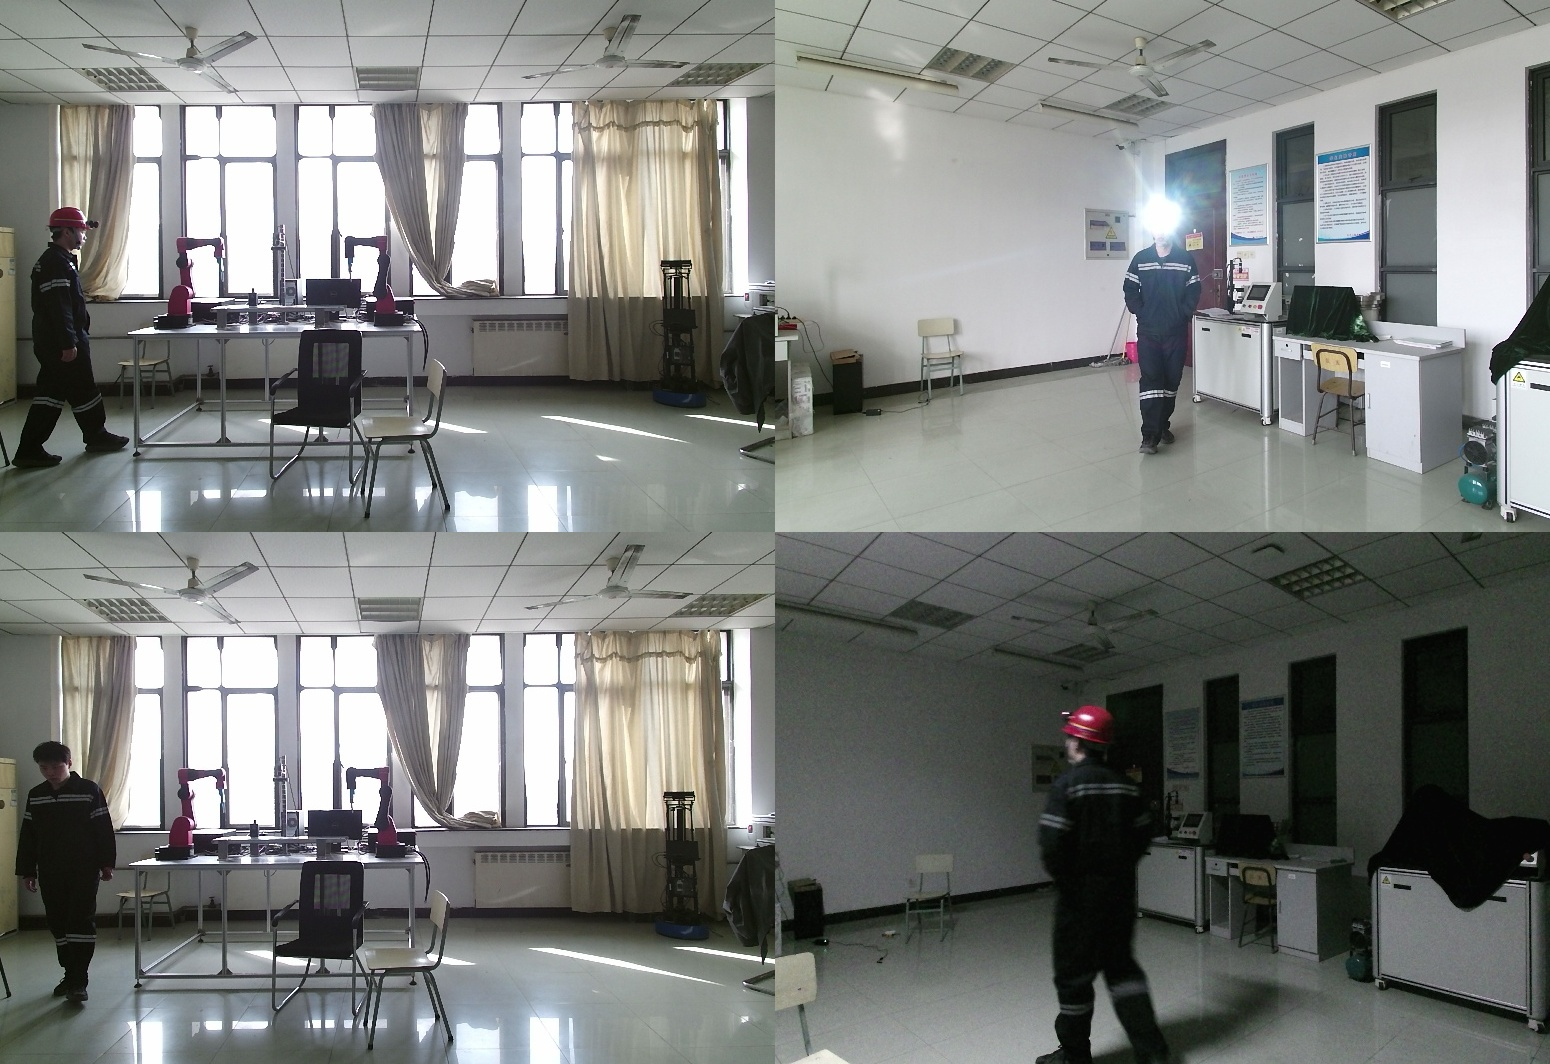person: (1028, 705, 1173, 1064), (12, 207, 130, 467), (16, 741, 120, 997), (1125, 217, 1210, 452)
